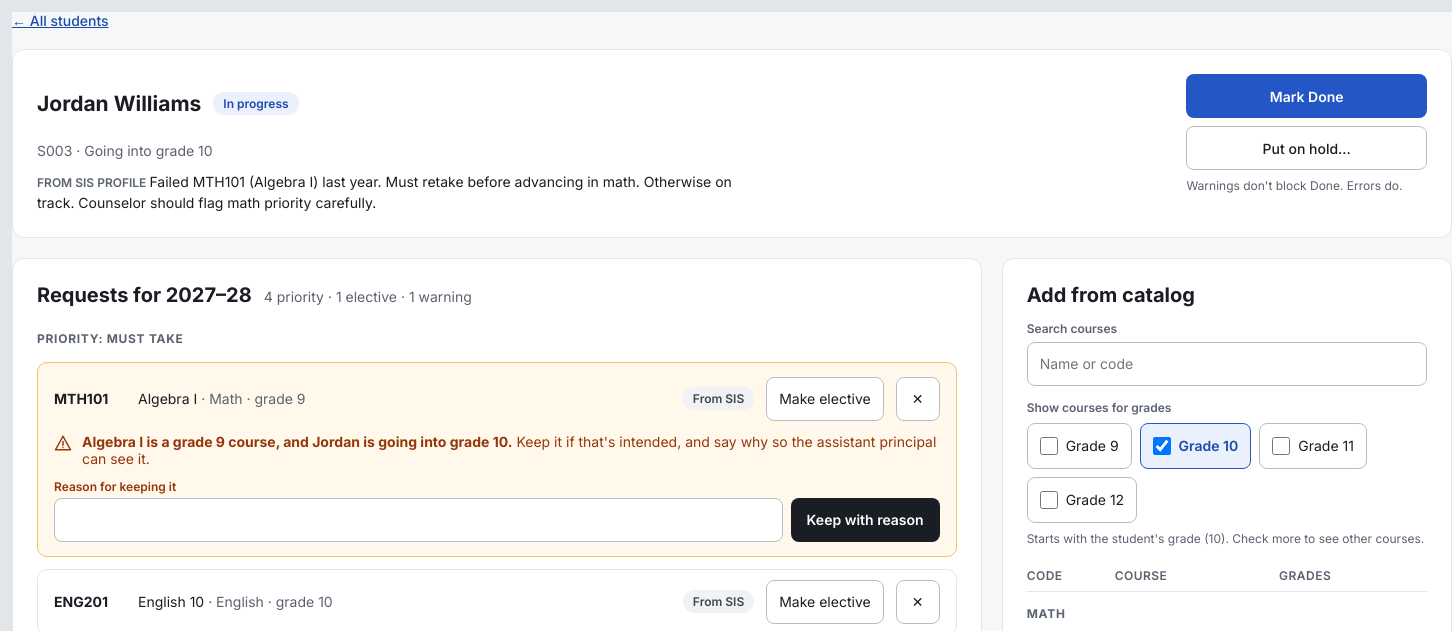
Test: Put on hold asks for a reason and won't save without one
Step 1. Click the button "Put on hold…" → [1307, 148], box [1186, 126, 1427, 170]
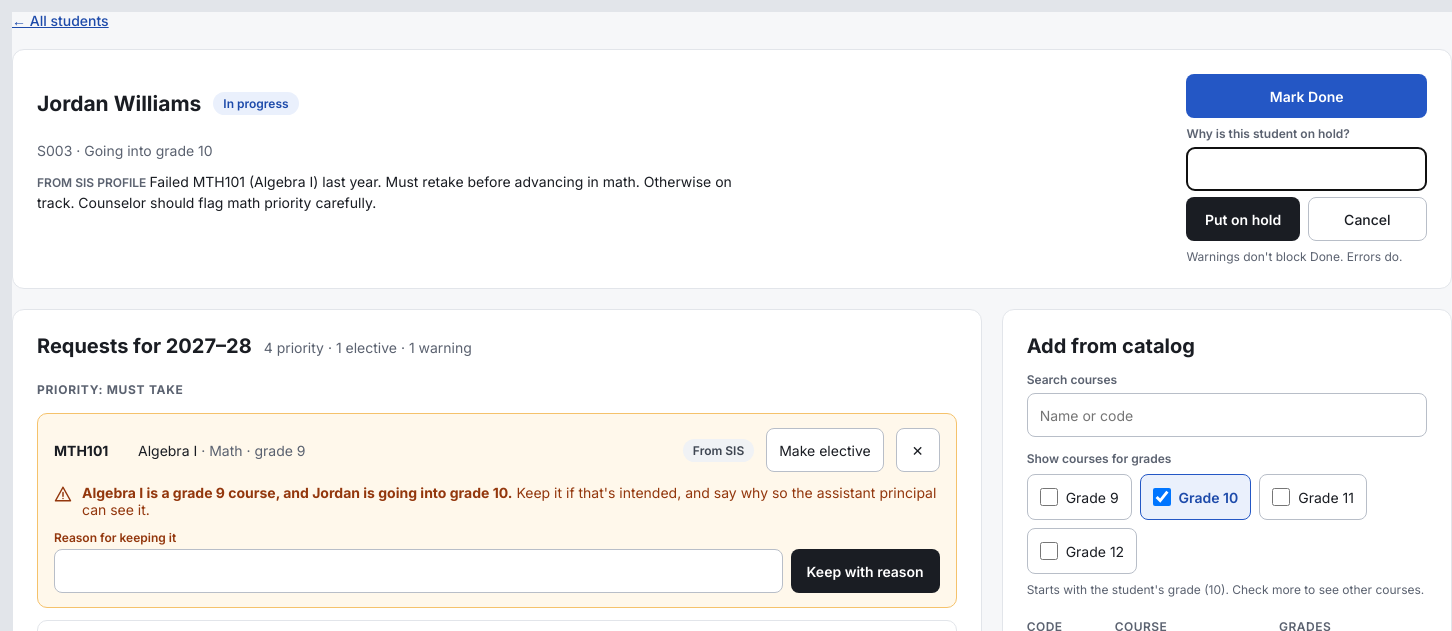
Step 2. Click the button "Put on hold" → [1243, 219], box [1186, 197, 1300, 241]
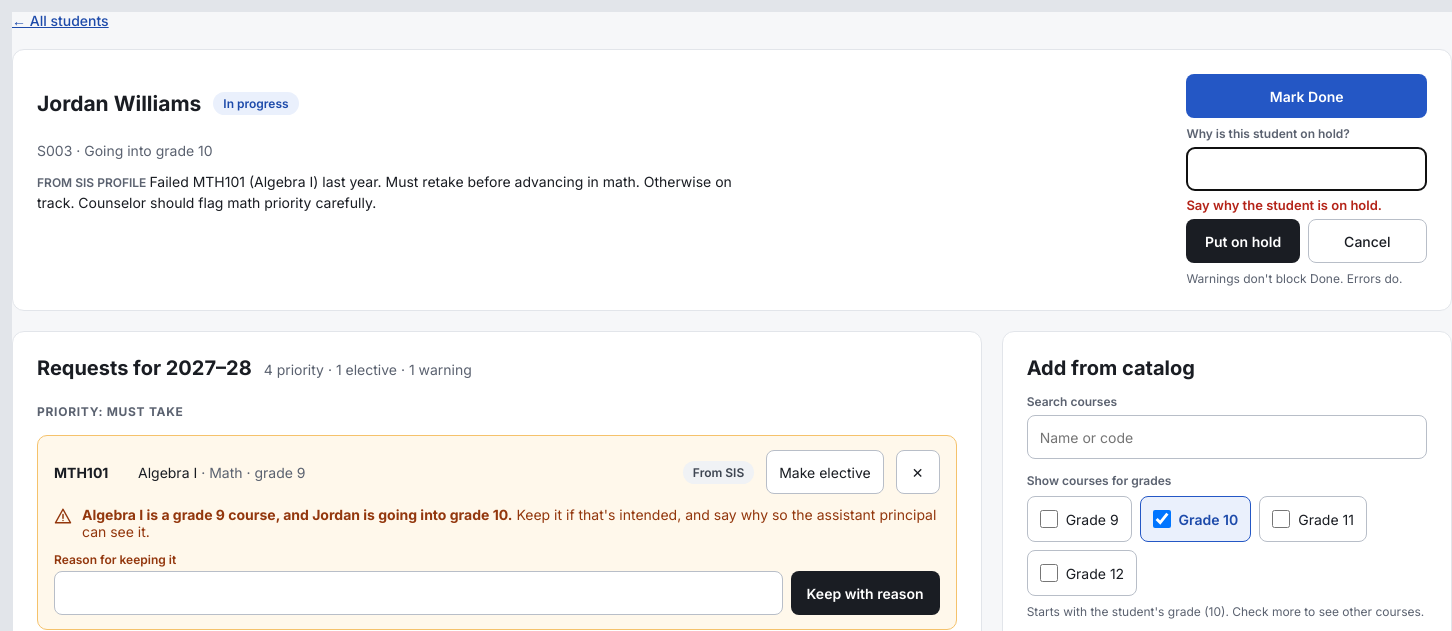
Expected: the message reads "Say why the student is on hold.", [1186, 197, 1382, 213]
